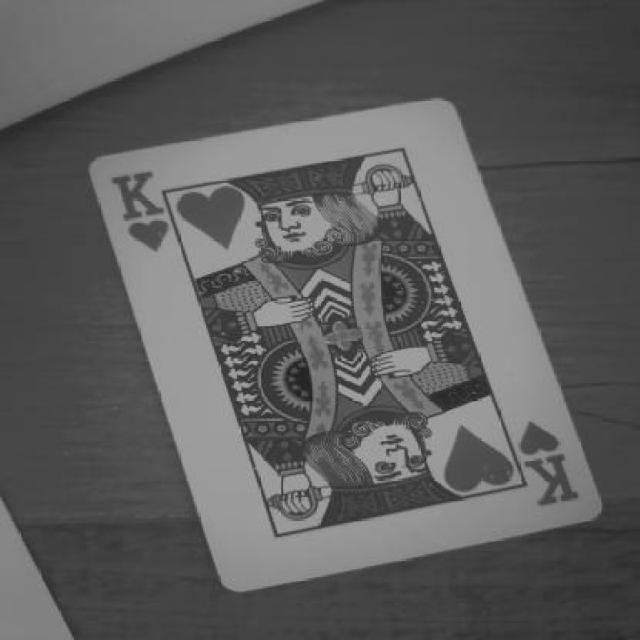KH: (487, 400, 604, 517), (101, 161, 176, 257)
